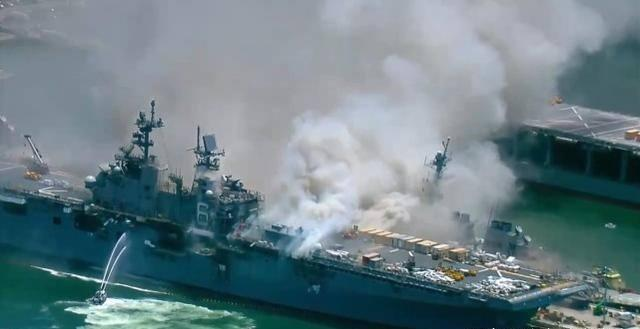warship: (1, 89, 636, 324)
